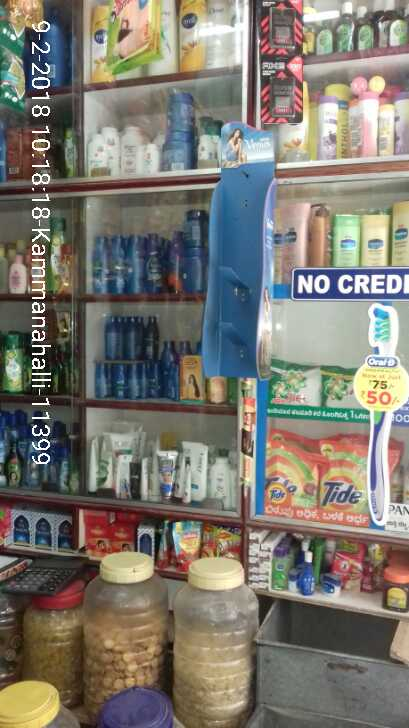home: (317, 449, 386, 516), (265, 447, 319, 510), (268, 362, 324, 403), (321, 367, 357, 409)
